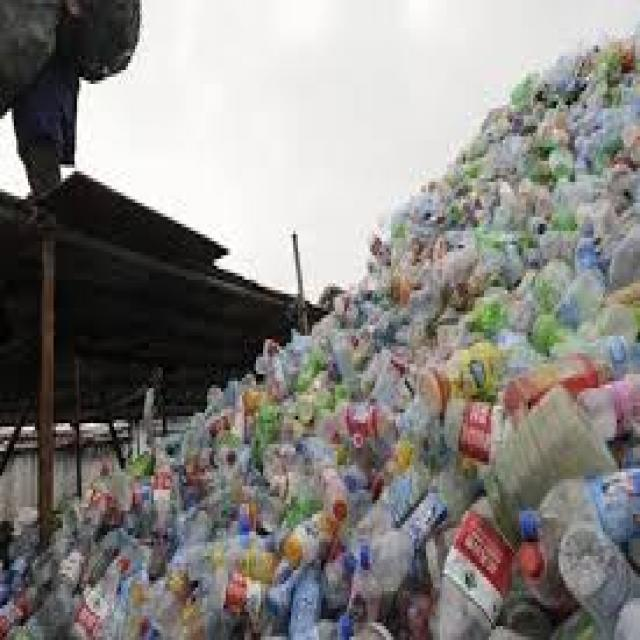heap: (362, 276, 632, 640)
